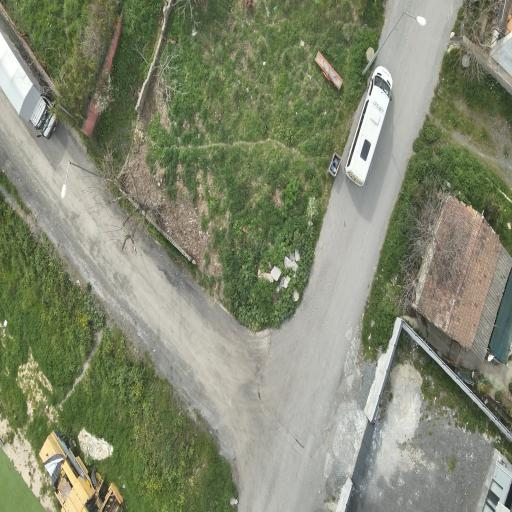car: (0, 30, 55, 137), (344, 66, 393, 186)
harvester: (39, 430, 122, 511)
